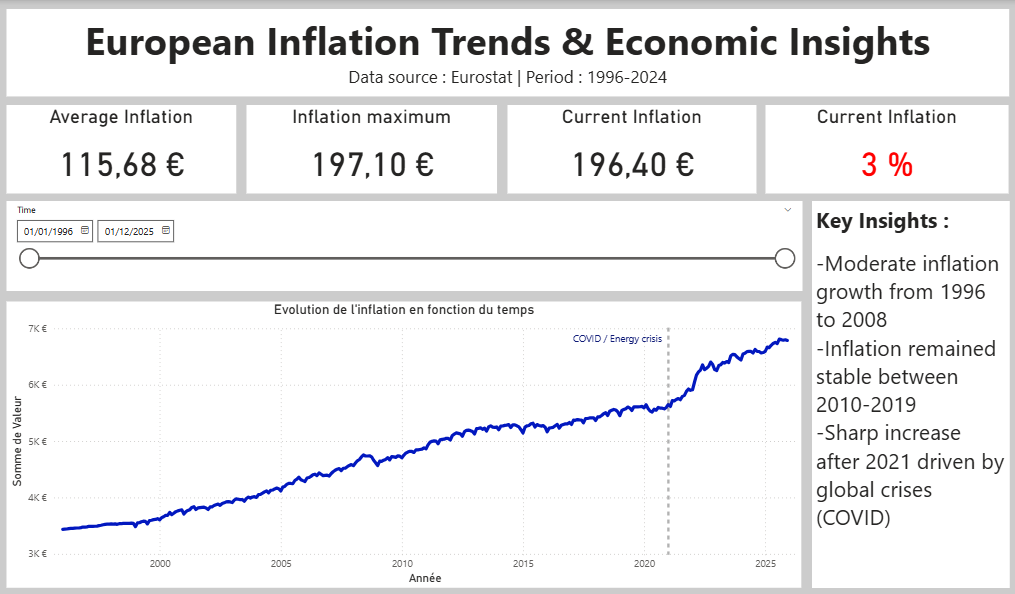

What the dashboard file says about the page in this screenshot:
{"tool":"powerbi","page":{"name":"Page 1","canvas":[1280,750],"ordinal":0},"visuals":[{"type":"card","title":"Average Inflation","fields":{"Values":["Avg(public inflation_eu.Valeur)"]},"box":[13.1,131.3,287,110.7],"z":0},{"type":"card","title":"Inflation maximum","fields":{"Values":["Max(public inflation_eu.Valeur)"]},"box":[313.3,131.3,313.3,110.7],"z":1000},{"type":"card","title":"Current Inflation","fields":{"Values":["_Mesures.Current Inflation"]},"box":[639.7,131.3,311.4,110.7],"z":2000},{"type":"textbox","box":[1020.5,251.4,247.6,484],"z":3000},{"type":"lineChart","title":"Evolution de l''inflation en fonction du temps","fields":{"Y":["Sum(public inflation_eu.Valeur)"],"Category":["Calendrier.Date.Variation.Hiérarchie de dates.Année","Calendrier.Date.Variation.Hiérarchie de dates.Trimestre","Calendrier.Date.Variation.Hiérarchie de dates.Mois","Calendrier.Date.Variation.Hiérarchie de dates.Jour"]},"box":[13.1,377.1,994.2,358.3],"z":4000},{"type":"card","title":"Current Inflation","fields":{"Values":["_Mesures.Inflation YoY"]},"box":[962.4,131.3,303.9,110.7],"z":5000},{"type":"textbox","box":[13.4,11.5,1253.8,109.4],"z":6000},{"type":"slicer","fields":{"Values":["public inflation_eu.Time"]},"box":[13.4,251.8,994.6,111.4],"z":7000}]}

Visuals, with their boxes in screenshot pixels (x1, y1, x2, y2), scaled from the page's 1280x750 canvas onto the 1015x594 screenshot:
"Average Inflation" card: [left=10, top=104, right=238, bottom=192]
"Inflation maximum" card: [left=248, top=104, right=497, bottom=192]
"Current Inflation" card: [left=507, top=104, right=754, bottom=192]
textbox: [left=809, top=199, right=1006, bottom=582]
"Evolution de l''inflation en fonction du temps" lineChart: [left=10, top=299, right=799, bottom=582]
"Current Inflation" card: [left=763, top=104, right=1004, bottom=192]
textbox: [left=11, top=9, right=1005, bottom=96]
slicer - public inflation_eu.Time: [left=11, top=199, right=799, bottom=288]
